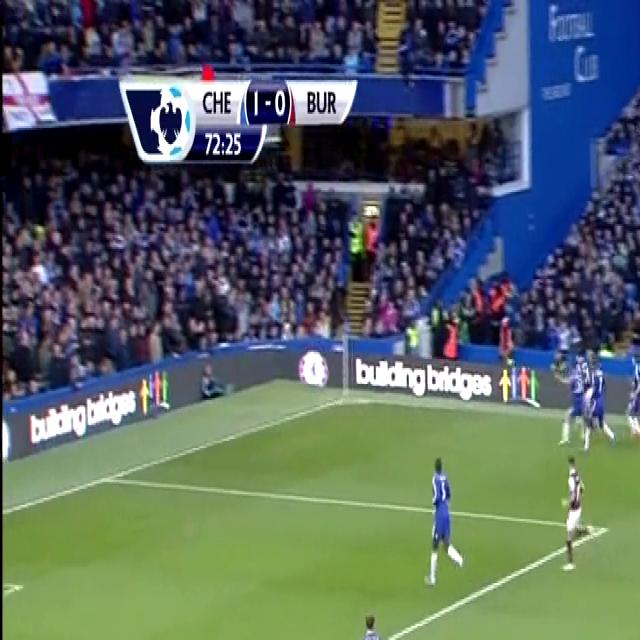soccer-player: (422, 451, 468, 599), (556, 453, 596, 586), (576, 349, 613, 455), (561, 352, 595, 451), (622, 338, 640, 446), (357, 606, 401, 640), (567, 638, 636, 640)
